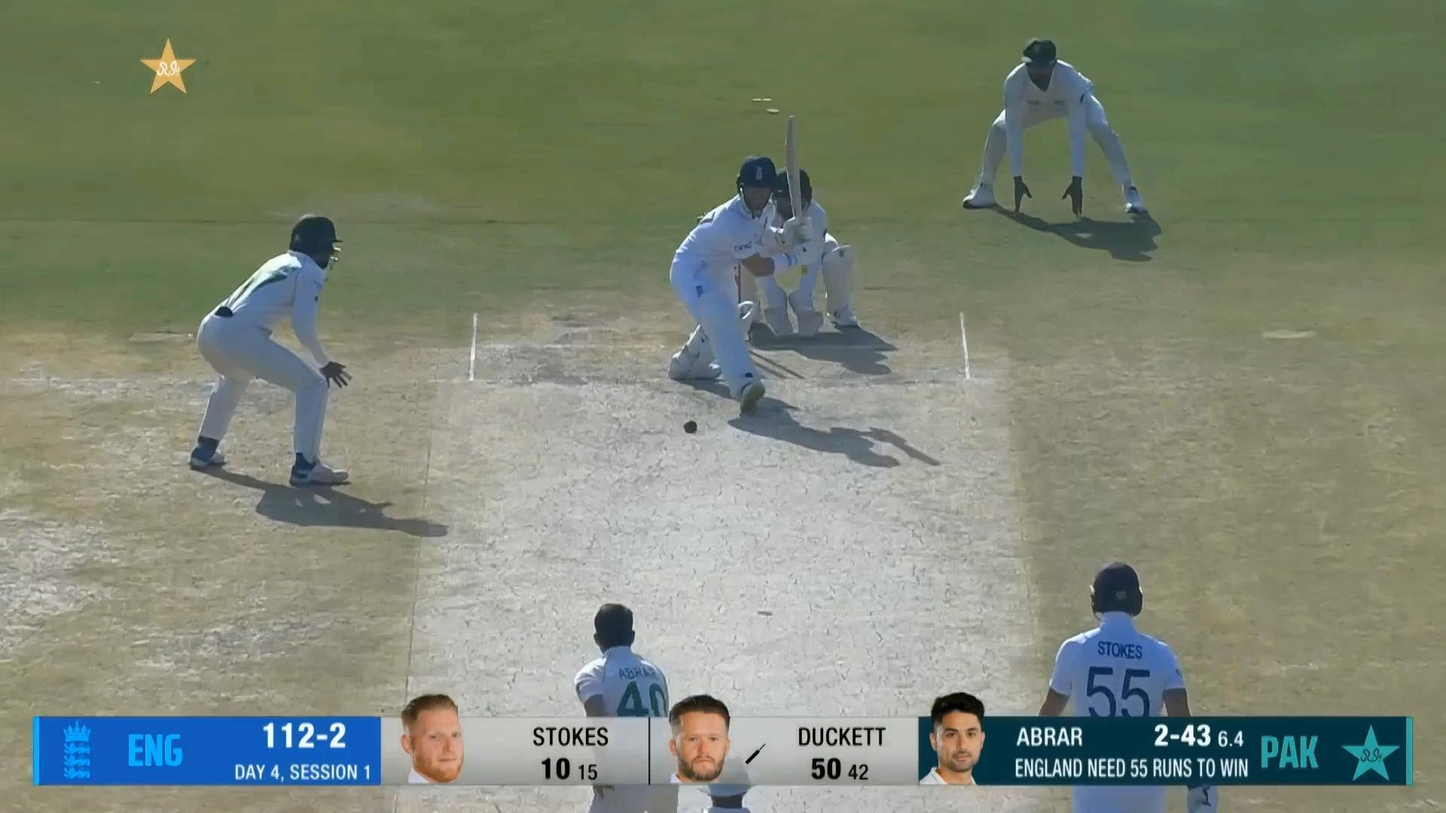BM 1: (668, 117, 813, 413)
BO: (573, 601, 681, 813)
